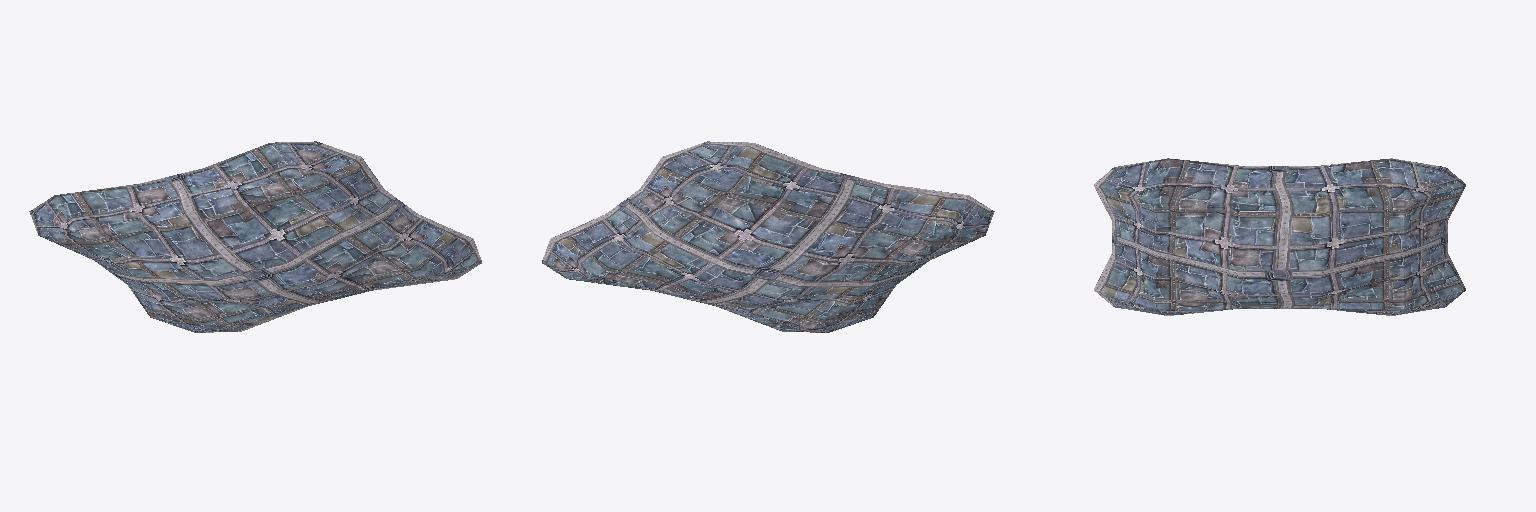
The picture shows the model from 3 angles: view 1: azimuth 30°, elevation 25°; view 2: azimuth 150°, elevation 25°; view 3: azimuth 270°, elevation 25°; orthographic projection.
Size of the model in its own units: 54 by 6 by 54.
Materials: 1 (1 with a texture image).